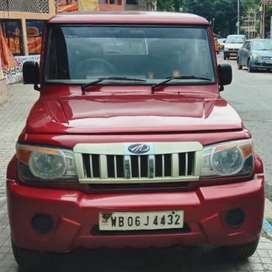WB06J4432: (98, 210, 184, 229)
